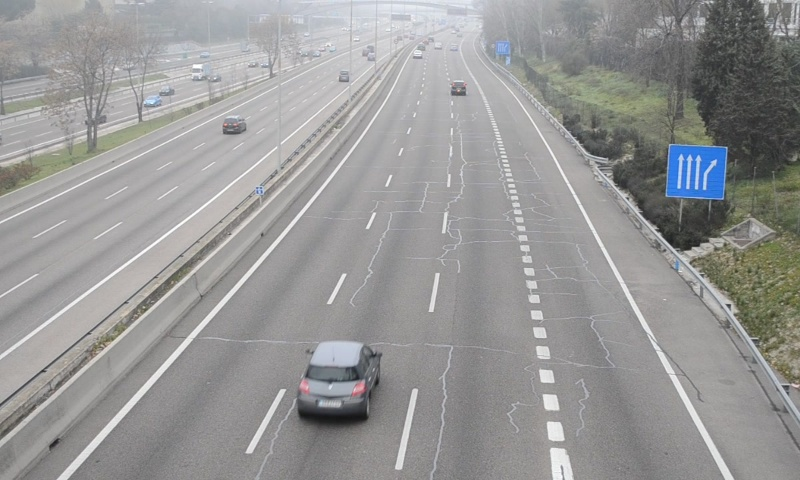car: (296, 340, 378, 422), (450, 80, 466, 95)
